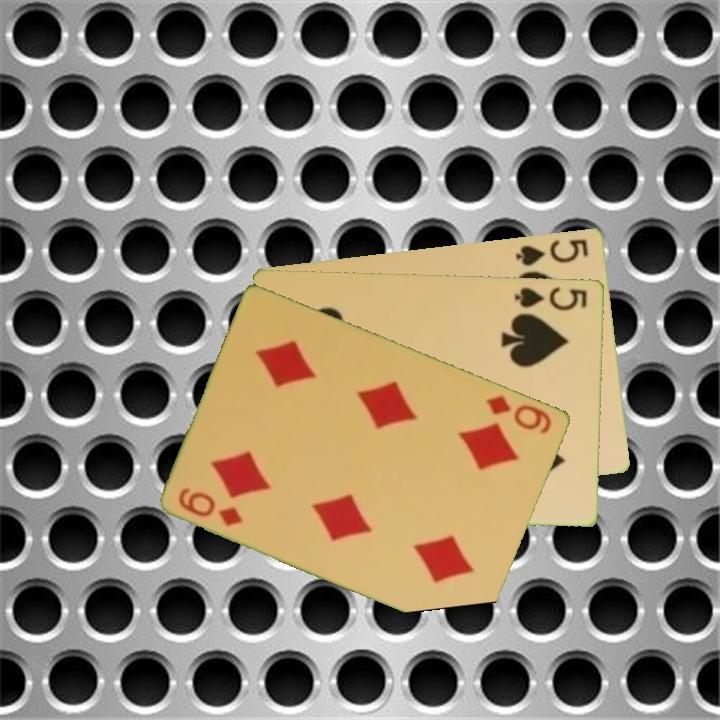5s: (512, 235, 592, 268), (511, 283, 590, 313)
6d: (483, 391, 555, 436), (175, 484, 246, 529)
